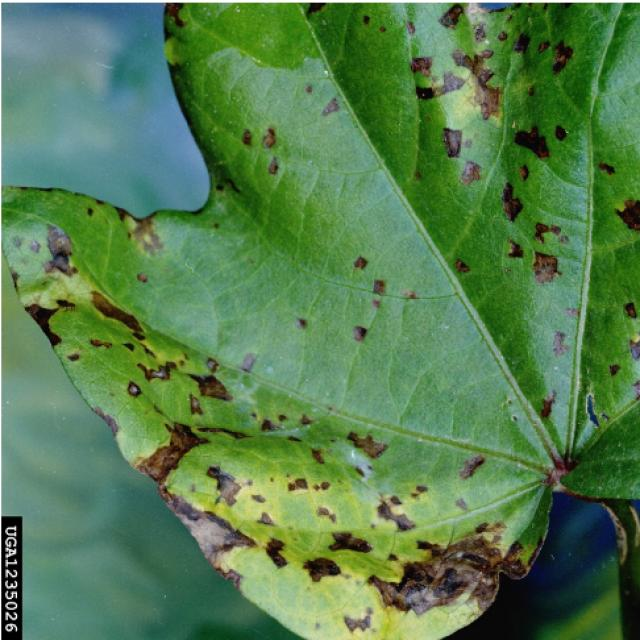Bacterial Blight: (37, 202, 518, 628)
